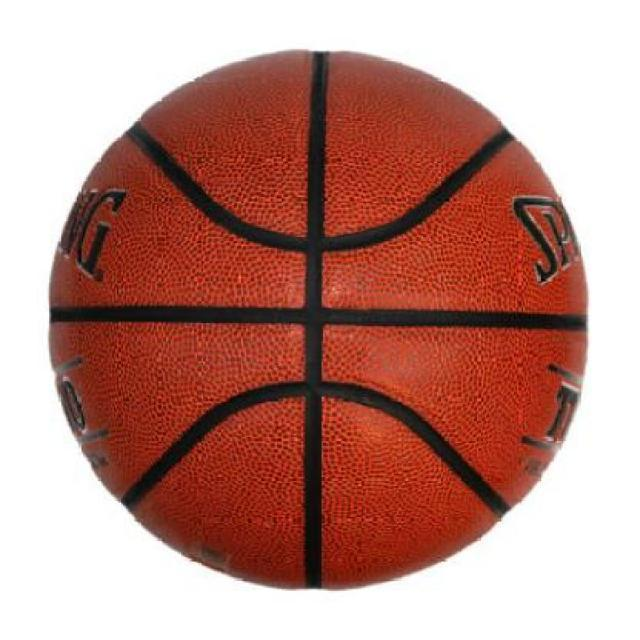basketball: (48, 47, 588, 590)
